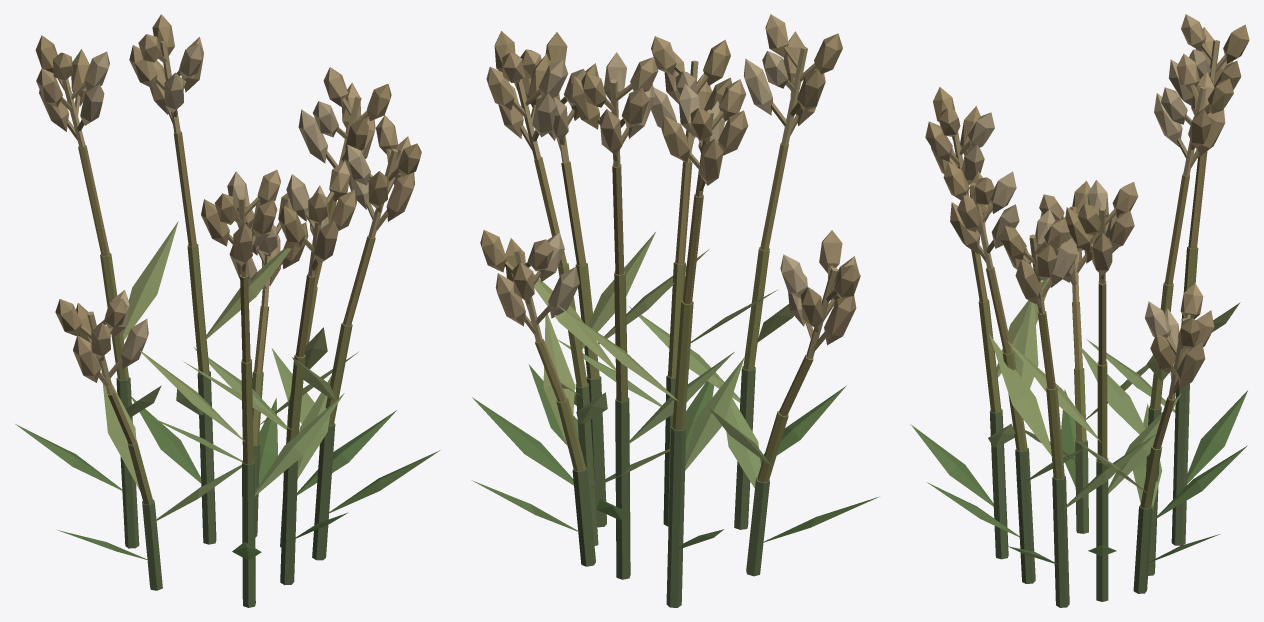
The model's file is waterside-reeds.glb.
The picture shows the model from 3 angles, left to right: view 1: azimuth 30°, elevation 25°; view 2: azimuth 150°, elevation 25°; view 3: azimuth 270°, elevation 25°; orthographic projection. The views are drawn at different scales.
Visible parts, largest first — view 1: SculptedModel; view 2: SculptedModel; view 3: SculptedModel.
Boxes of the visible parts, x1,y1,x2,y2 form: SculptedModel: (15, 14, 440, 607); SculptedModel: (471, 14, 879, 607); SculptedModel: (910, 14, 1249, 607).
Bounding box in the file's own units: 0.9465 × 1.27 × 0.7817.
